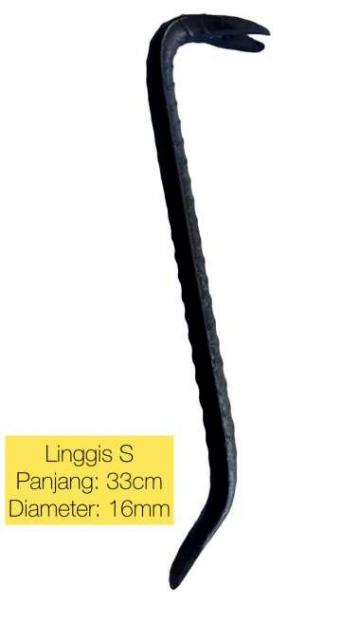crow bar: (146, 15, 271, 599)
